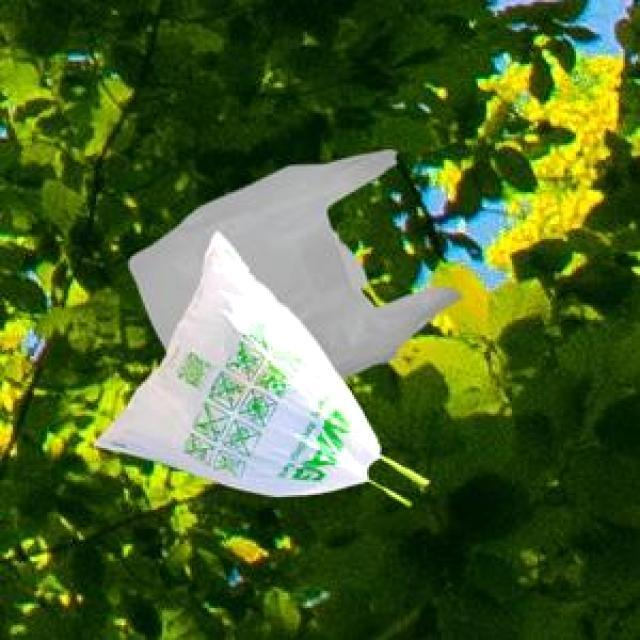Plastic_Bag: (90, 230, 426, 502), (127, 146, 458, 377)
